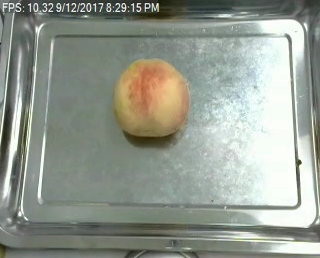Peach: (113, 57, 189, 138)
